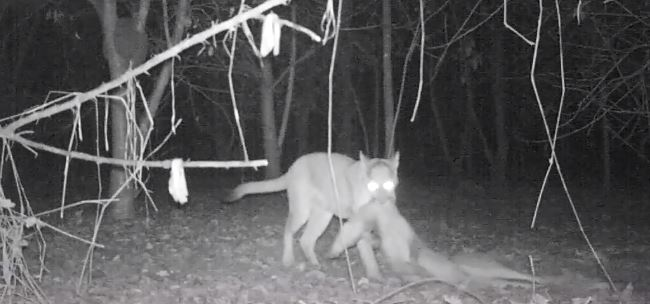OncaParda: (211, 145, 404, 281)
